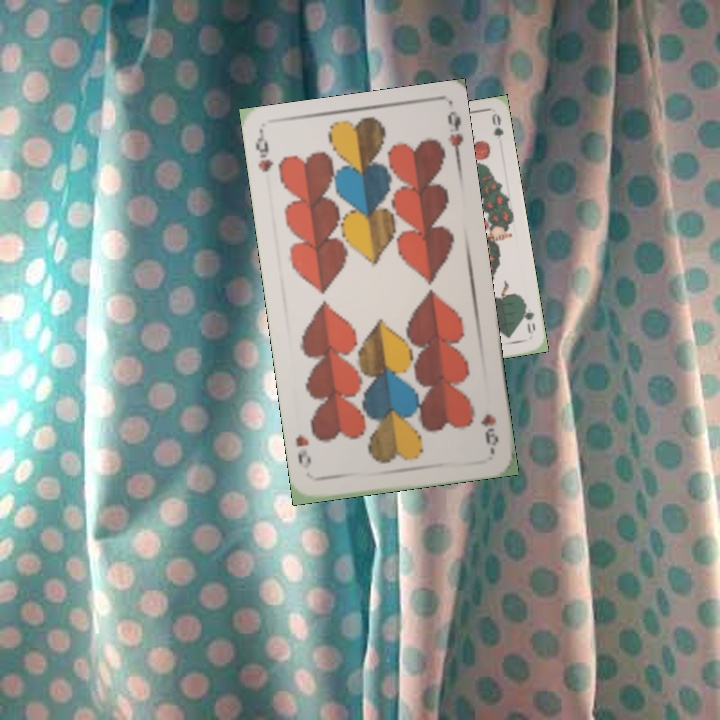GO: (519, 298, 538, 335)
H9: (251, 131, 276, 175), (476, 410, 502, 452)
